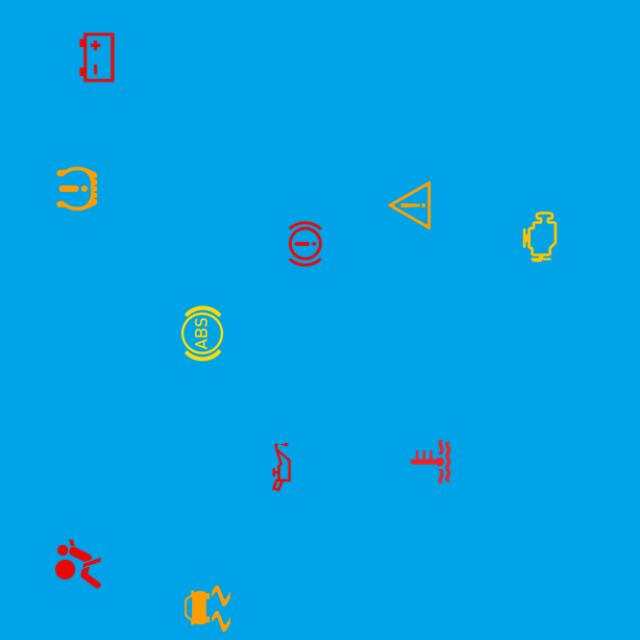Anti Lock Braking System: (172, 303, 232, 364)
Braking System Issue: (275, 214, 336, 274)
Charging System Issue: (67, 27, 127, 88)
Check Engine: (510, 206, 570, 267)
Electronic Stability Problem -ESP-: (177, 578, 238, 639)
Engine Overheating Warning Light: (400, 432, 461, 492)
Low Engine Oil Warning Light: (251, 437, 312, 497)
Low Tire Pressure Warning Light: (47, 158, 107, 219)
Master warning light: (379, 175, 440, 236)
SRS-Airbag: (48, 534, 108, 594)
